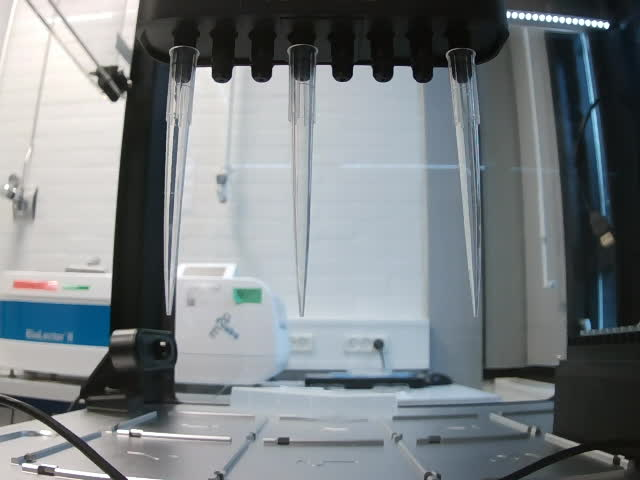pipet: (444, 47, 485, 316), (163, 44, 199, 317), (285, 43, 320, 317)
